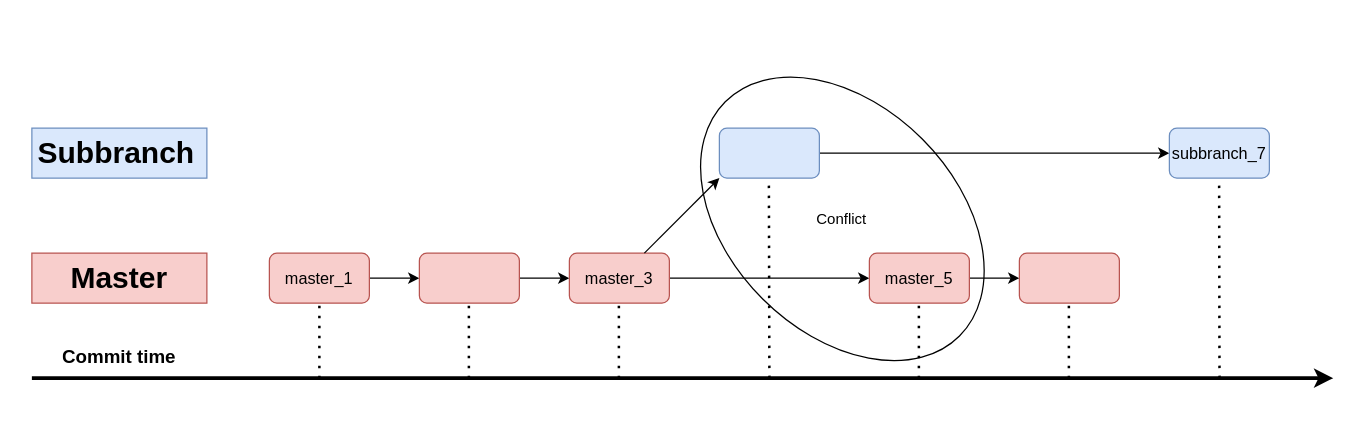
This 1368x439 diagram has some shape labels left out. Here are the shapes that lost their labels. From the top down, the centre of each, then its label:
At [768,152]: "subbranch_4".
At [468,277]: "master_2".
At [1068,277]: "master_6".
